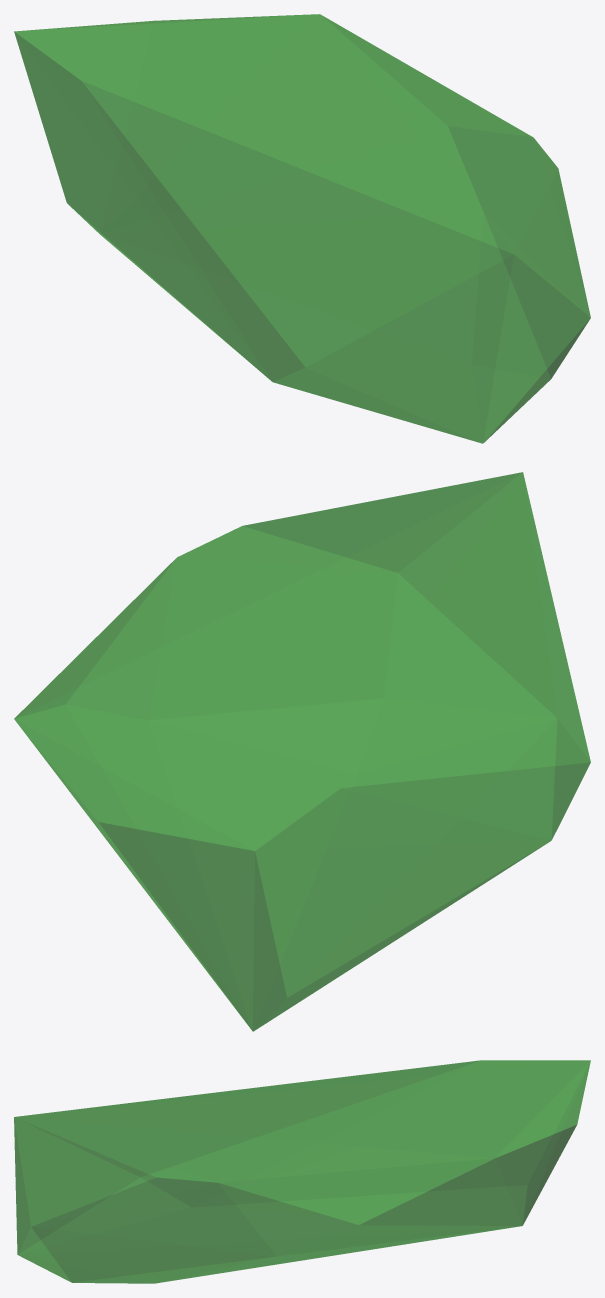
3 renders of one model, top to bottom at view 1: azimuth 30°, elevation 25°; view 2: azimuth 150°, elevation 25°; view 3: azimuth 270°, elevation 25°, orthographic. The views are drawn at different scales.
Parts seen in each view (by area): view 1: Shape_IndexedFaceSet.015_Shape_IndexedFaceSet.441; view 2: Shape_IndexedFaceSet.015_Shape_IndexedFaceSet.441; view 3: Shape_IndexedFaceSet.015_Shape_IndexedFaceSet.441.
Boxes of the visible parts, left/top/right/bottom form: Shape_IndexedFaceSet.015_Shape_IndexedFaceSet.441: left=14, top=14, right=590, bottom=443; Shape_IndexedFaceSet.015_Shape_IndexedFaceSet.441: left=14, top=472, right=590, bottom=1031; Shape_IndexedFaceSet.015_Shape_IndexedFaceSet.441: left=14, top=1060, right=590, bottom=1283.
Bounding box in the file's own units: 0.148 × 0.0893 × 0.3126.
